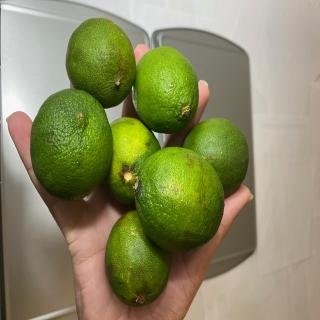Chilli: (29, 16, 251, 306)
Lemon: (133, 146, 225, 252), (30, 88, 113, 201), (65, 17, 137, 109), (104, 209, 171, 307), (132, 46, 199, 134), (182, 117, 249, 198), (104, 116, 161, 205)
